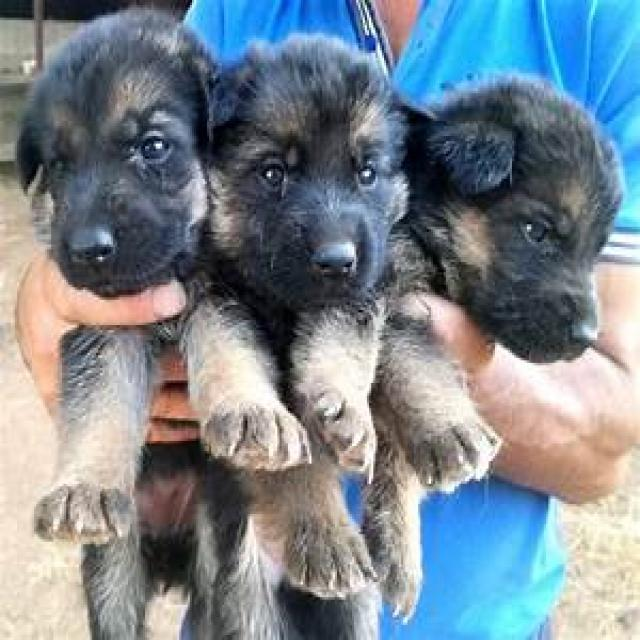dog: (15, 10, 314, 640), (369, 73, 627, 491), (211, 43, 407, 527)
